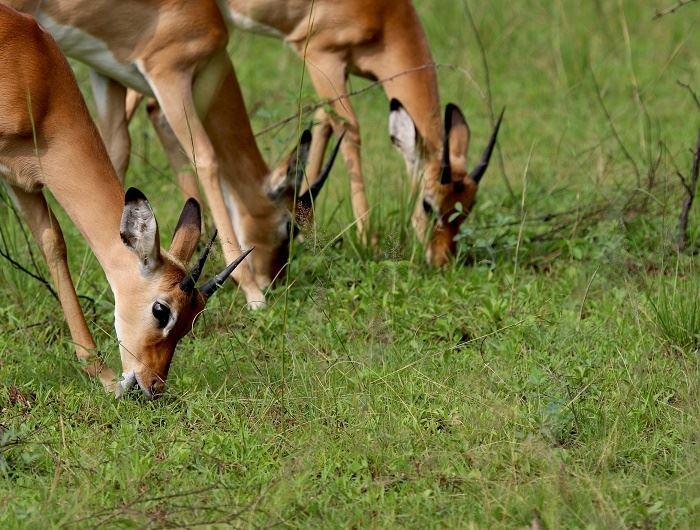impala: (0, 1, 261, 417), (24, 1, 350, 321), (221, 1, 513, 276)
